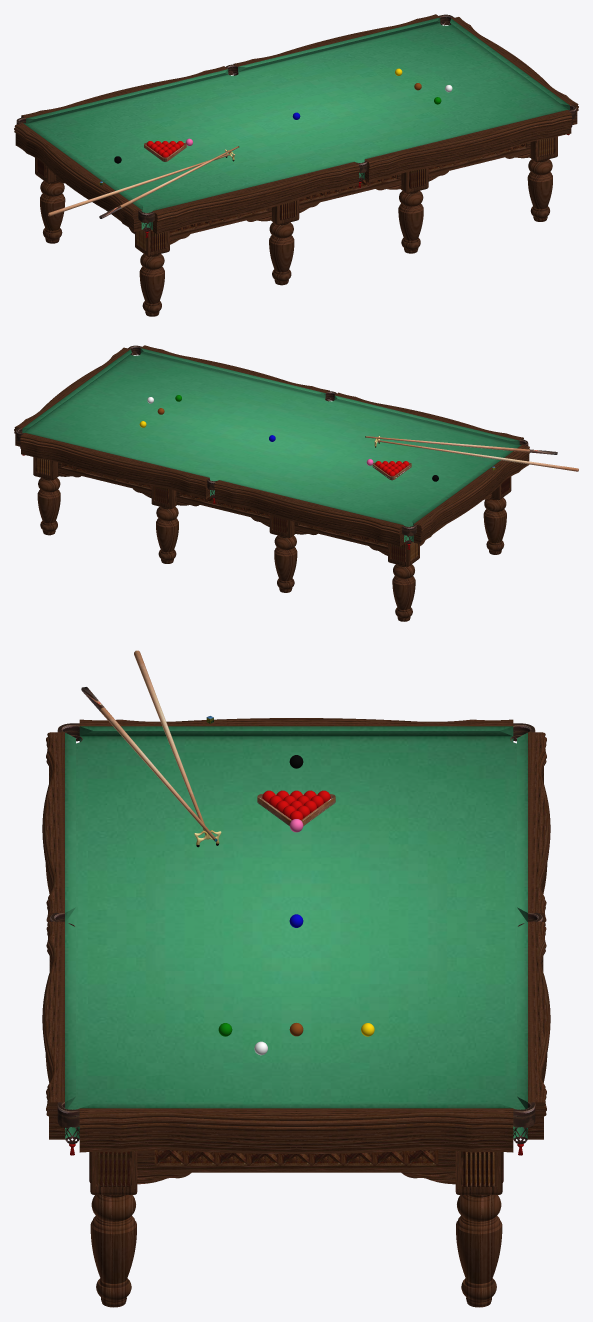
The model's file is Billiard.dae.
The picture shows the model from 3 angles, top to bottom: view 1: azimuth 30°, elevation 25°; view 2: azimuth 150°, elevation 25°; view 3: azimuth 270°, elevation 25°; orthographic projection. The views are drawn at different scales.
Visible parts, largest first — view 1: Component_9 (×8), Component_24 (×5), Component_21 (×3), group_16, Component_25; view 2: Component_9 (×8), Component_24 (×5), Component_21 (×3), group_16, Component_25; view 3: Component_9 (×8), Component_24 (×2), Component_23 (×4), Component_20, group_16, Component_25.
Boxes of the visible parts, <box> form: Component_9 (×8): <box>14,14,578,234</box>; Component_24 (×5): <box>40,159,552,316</box>; Component_21 (×3): <box>170,142,530,244</box>; group_16: <box>48,153,229,216</box>; Component_25: <box>120,146,238,208</box>; Component_9 (×8): <box>14,345,529,546</box>; Component_24 (×5): <box>37,477,506,621</box>; Component_21 (×3): <box>58,462,387,555</box>; group_16: <box>377,440,578,471</box>; Component_25: <box>366,436,529,452</box>; Component_9 (×8): <box>42,718,550,1153</box>; Component_24 (×2): <box>90,1195,502,1307</box>; Component_23 (×4): <box>90,1151,502,1194</box>; Component_20: <box>137,1150,455,1184</box>; group_16: <box>134,650,205,834</box>; Component_25: <box>100,707,215,839</box>.
Bounding box in the file's own units: 175 × 81.66 × 38.91.
26 materials, 17 textured.
